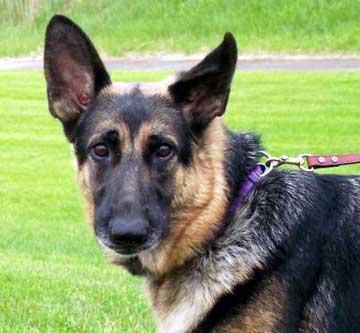German_shepherd: (41, 14, 359, 331)
